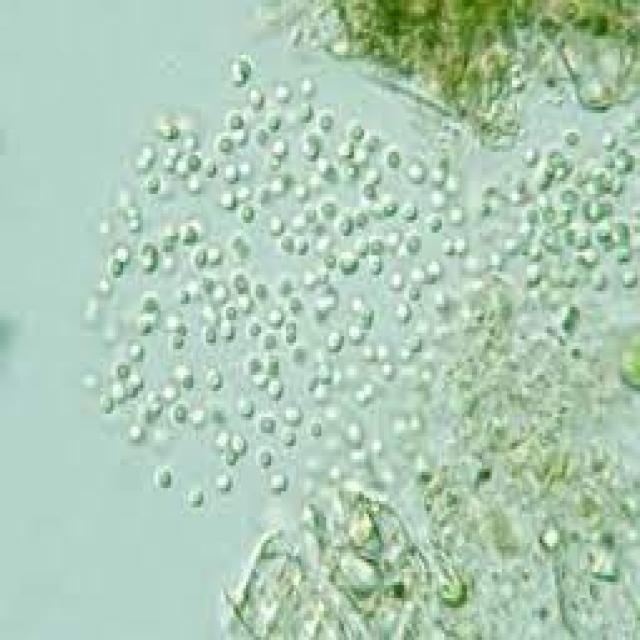Blue Green Algae: (153, 462, 176, 495), (234, 394, 258, 424), (138, 291, 163, 317), (560, 184, 584, 210), (301, 136, 324, 162), (399, 197, 422, 223), (336, 249, 359, 275), (404, 230, 427, 256), (612, 242, 635, 268), (326, 323, 346, 352), (264, 356, 286, 382), (226, 106, 248, 132), (256, 446, 276, 472), (108, 256, 128, 282), (180, 223, 200, 249), (186, 485, 206, 511), (231, 272, 251, 298), (366, 230, 386, 256), (254, 278, 274, 304), (288, 294, 308, 320), (201, 365, 223, 388), (170, 398, 190, 423), (319, 110, 336, 139), (238, 200, 256, 227), (243, 349, 261, 375), (321, 194, 339, 220), (336, 210, 354, 236), (143, 171, 163, 194), (575, 226, 595, 249), (98, 391, 115, 417), (595, 216, 612, 242), (284, 320, 301, 346), (113, 359, 133, 381), (258, 414, 278, 436), (281, 427, 301, 449), (216, 133, 236, 155), (264, 113, 286, 133), (278, 233, 298, 255), (361, 129, 379, 152), (366, 252, 384, 275), (221, 449, 241, 469), (384, 149, 402, 171), (361, 178, 379, 200), (565, 126, 582, 149), (344, 120, 364, 139), (186, 149, 203, 171), (298, 103, 314, 126), (194, 246, 208, 272), (429, 210, 444, 233), (180, 368, 196, 388), (248, 317, 264, 336), (204, 323, 218, 343)
